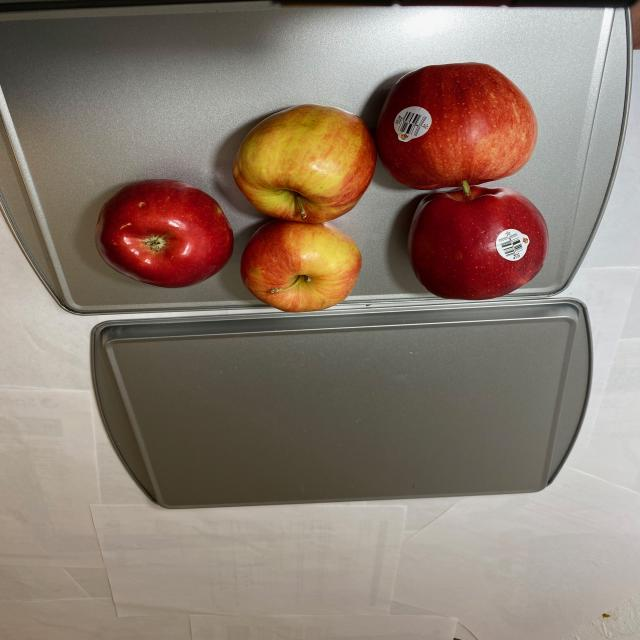Apple: (91, 61, 553, 311)
